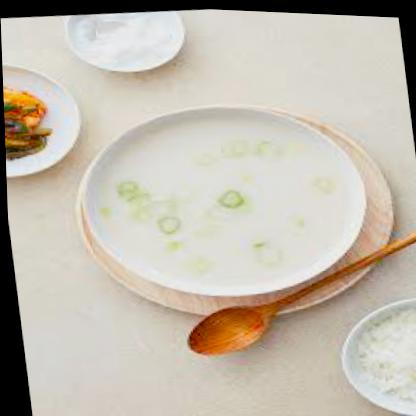beef-bone soup: (91, 99, 363, 299)
chonggak Kimchi: (2, 64, 72, 174)
rice ball: (346, 297, 415, 415)
